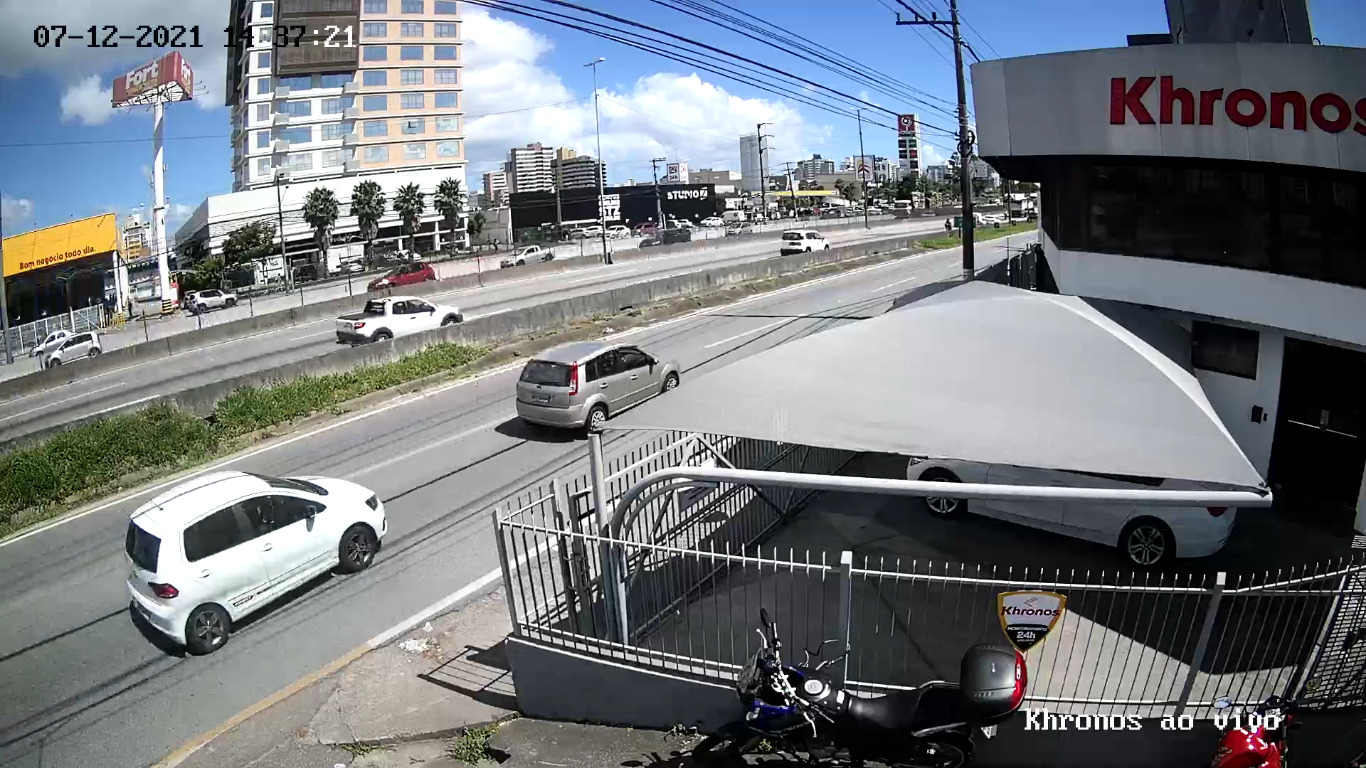car: (124, 471, 386, 655), (515, 339, 680, 434)
